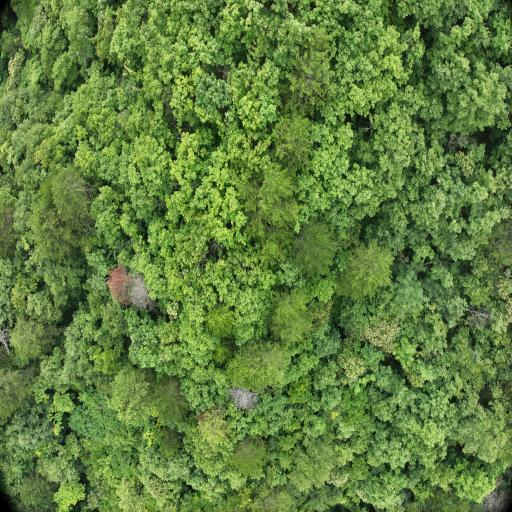dead-tree: (231, 390, 253, 407), (134, 277, 145, 306)
sick-tree: (113, 271, 125, 298)
